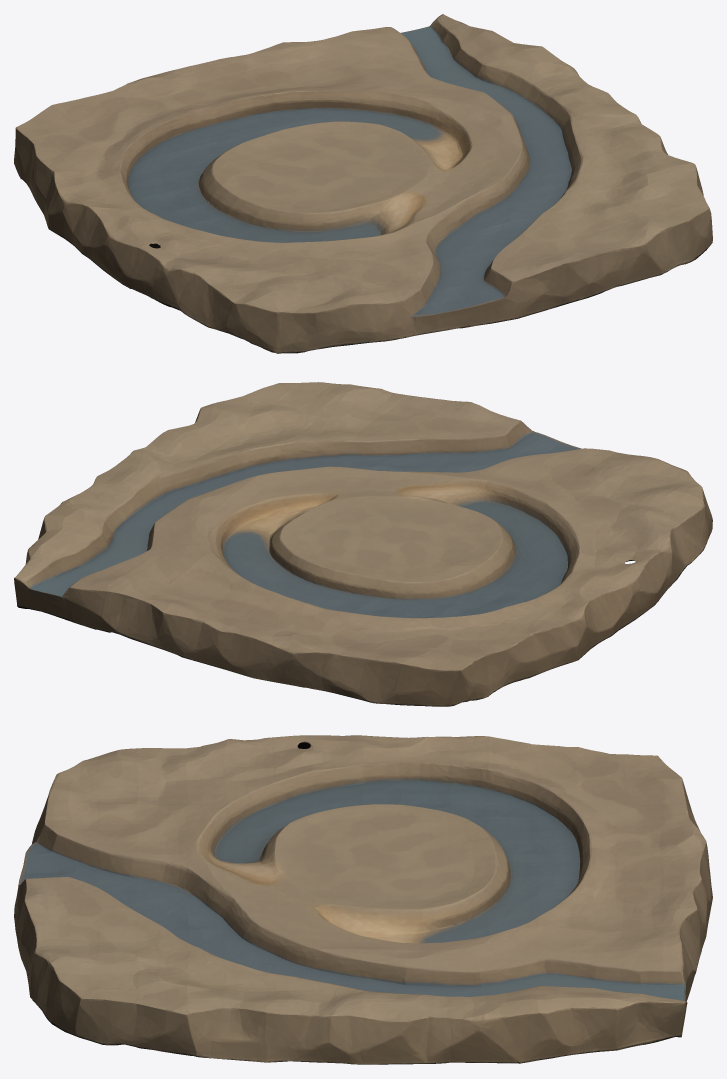
The picture shows the model from 3 angles, top to bottom: view 1: azimuth 30°, elevation 25°; view 2: azimuth 150°, elevation 25°; view 3: azimuth 270°, elevation 25°; orthographic projection. The views are drawn at different scales.
Visible parts, largest first — view 1: world; view 2: world; view 3: world.
Part boxes in pixels (left/top/right/bottom): world: left=14, top=14, right=712, bottom=353; world: left=14, top=382, right=712, bottom=706; world: left=14, top=735, right=712, bottom=1064.
Size of the model in its own units: 0.9973 by 0.0899 by 0.9984.
Materials: 1 (1 with a texture image).
